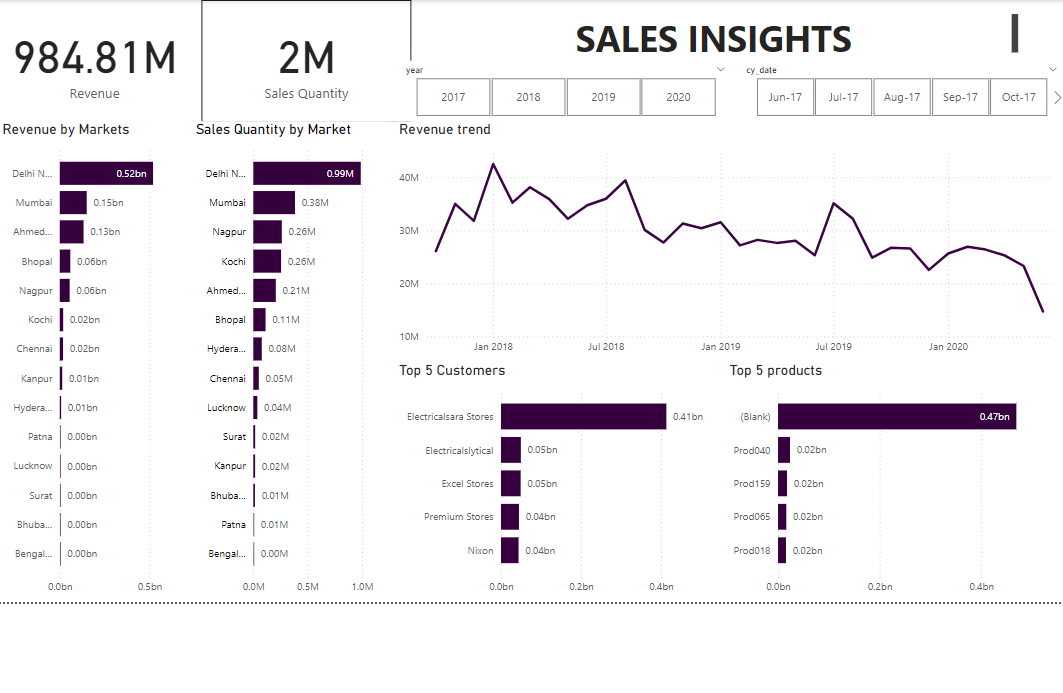

The page's visual inventory and layout, read from the dashboard file:
{"tool":"powerbi","page":{"name":"Page 1","canvas":[1280,720],"ordinal":0},"visuals":[{"type":"card","fields":{"Values":["Base Measures.Revenue"]},"box":[0,0,231.6,145.4],"z":0},{"type":"card","fields":{"Values":["Base Measures.Sales Quantity"]},"box":[243.4,0,251.9,145.4],"z":1000},{"type":"barChart","title":"Revenue by Markets","fields":{"Y":["Base Measures.Revenue"],"Category":["sales markets.markets_name"]},"box":[0,145.4,243.4,574.8],"z":2000},{"type":"barChart","title":"Sales Quantity by Market","fields":{"Y":["Base Measures.Sales Quantity"],"Category":["sales markets.markets_name"]},"box":[231.6,145.4,243.4,574.8],"z":3000},{"type":"slicer","fields":{"Values":["sales date.year"]},"box":[475,72.7,407.4,72.7],"z":4000},{"type":"slicer","fields":{"Values":["sales date.cy_date"]},"box":[882.5,72.7,397.3,72.7],"z":5000},{"type":"barChart","title":"Top  5 Customers","fields":{"Y":["Base Measures.Revenue"],"Category":["sales customers.custmer_name"]},"box":[475,432.8,395.6,287.4],"z":6000},{"type":"barChart","title":"Top  5 products","fields":{"Y":["Base Measures.Revenue"],"Category":["sales products.product_code"]},"box":[870.6,432.8,409.1,287.4],"z":7000},{"type":"lineChart","title":"Revenue trend","fields":{"Y":["Base Measures.Revenue"],"Category":["sales date.cy_date"]},"box":[475,145.4,804.7,287.4],"z":8000},{"type":"textbox","box":[495.3,11.8,730.3,60.9],"z":9000}]}

Visuals, with their boxes on the page's 1280x720 design canvas (x1, y1, x2, y2). These are canvas units, not pixel positions in the 1063x693 screenshot, which may show the page scaled, cropped or inside an application window:
card - Base Measures.Revenue: <bbox>0, 0, 232, 145</bbox>
card - Base Measures.Sales Quantity: <bbox>243, 0, 495, 145</bbox>
"Revenue by Markets" barChart: <bbox>0, 145, 243, 720</bbox>
"Sales Quantity by Market" barChart: <bbox>232, 145, 475, 720</bbox>
slicer - sales date.year: <bbox>475, 73, 882, 145</bbox>
slicer - sales date.cy_date: <bbox>882, 73, 1280, 145</bbox>
"Top  5 Customers" barChart: <bbox>475, 433, 871, 720</bbox>
"Top  5 products" barChart: <bbox>871, 433, 1280, 720</bbox>
"Revenue trend" lineChart: <bbox>475, 145, 1280, 433</bbox>
textbox: <bbox>495, 12, 1226, 73</bbox>
